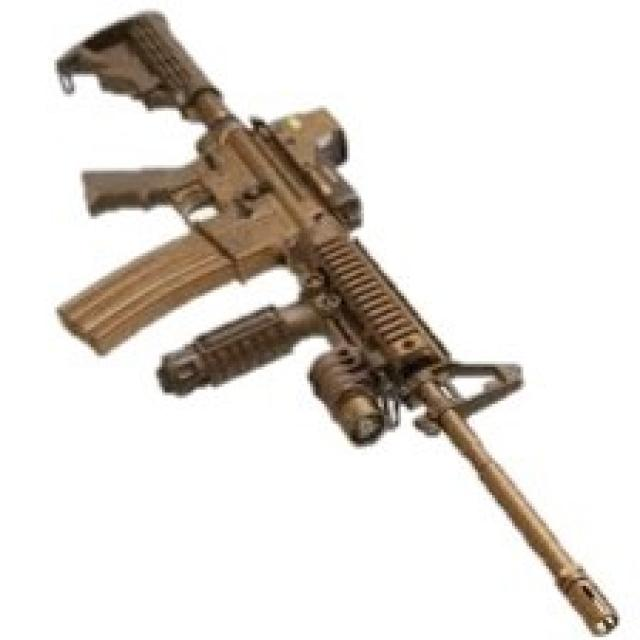rifle: (46, 4, 629, 637)
